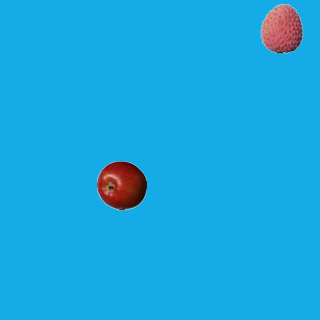Apple Braeburn: (96, 160, 146, 210)
Lychee: (256, 3, 306, 53)
